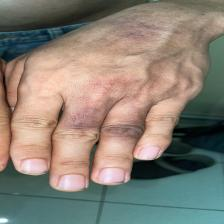DA: (62, 75, 174, 144), (103, 16, 177, 51)
